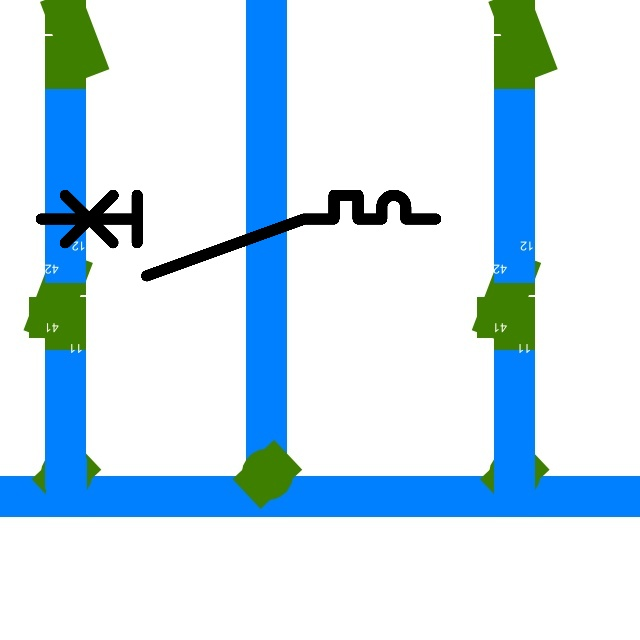interruptor_termomagnetico: (31, 185, 446, 286)
